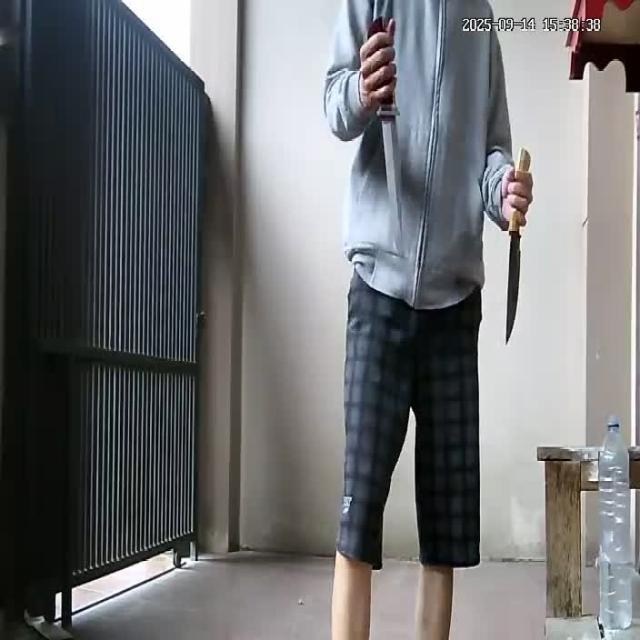senjata_tajam: (377, 99, 408, 257), (504, 216, 523, 348)
